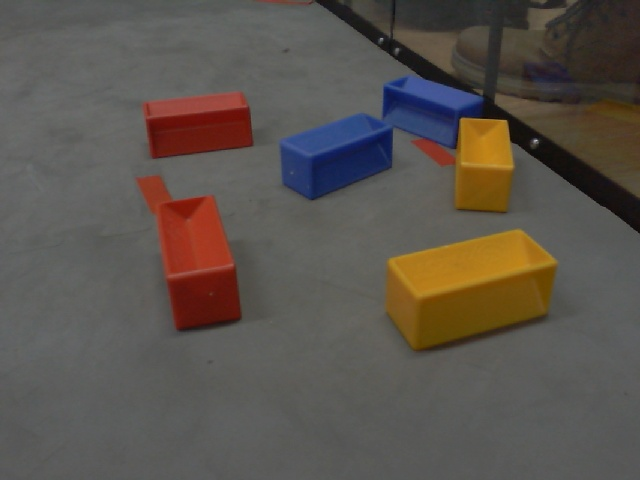BlueSample: (277, 110, 396, 204), (378, 70, 487, 153)
RedSample: (151, 193, 246, 335), (139, 91, 256, 157)
YellowSample: (381, 225, 559, 351), (451, 112, 518, 218)
